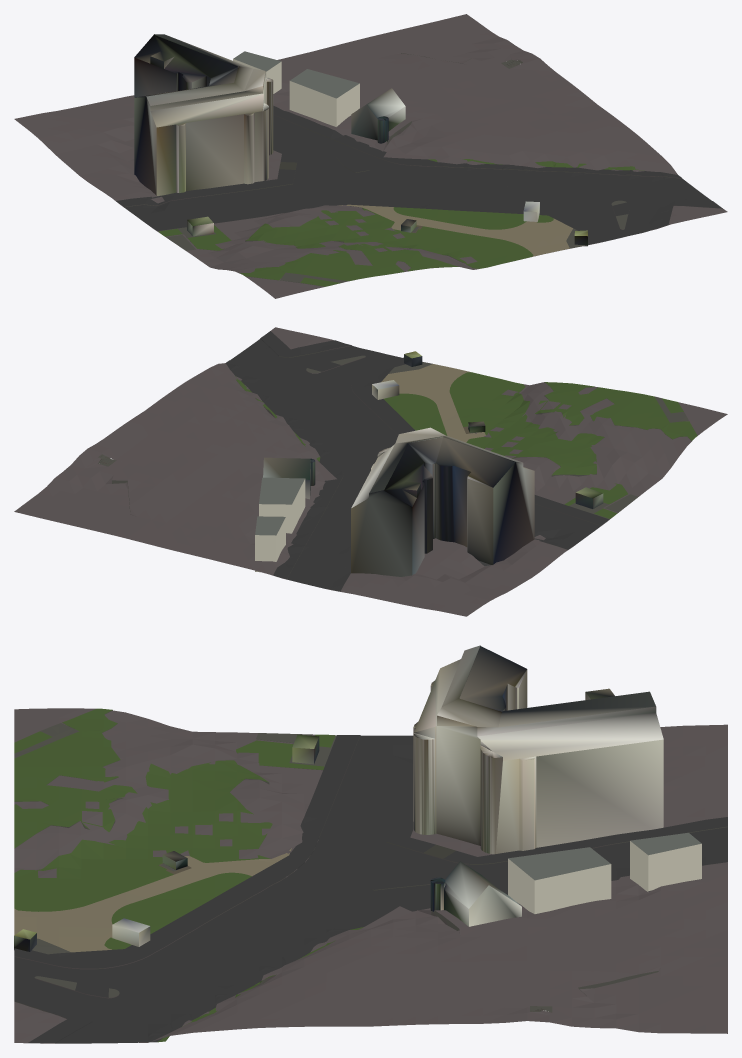
3 renders of one model, top to bottom at view 1: azimuth 30°, elevation 25°; view 2: azimuth 150°, elevation 25°; view 3: azimuth 270°, elevation 25°, orthographic. The views are drawn at different scales.
Visible parts, largest first — view 1: c_m10_m05; view 2: c_m10_m05; view 3: c_m10_m05.
Boxes of the visible parts, left/top/right/bottom form: c_m10_m05: left=14, top=14, right=727, bottom=298; c_m10_m05: left=14, top=327, right=727, bottom=616; c_m10_m05: left=14, top=645, right=727, bottom=1043.
Size of the model in its own units: 128 by 26.57 by 128.
